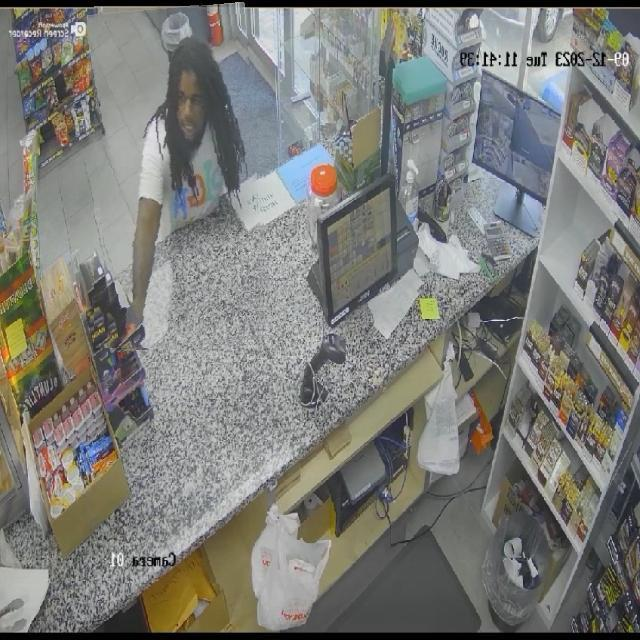normal: (94, 5, 267, 349)
